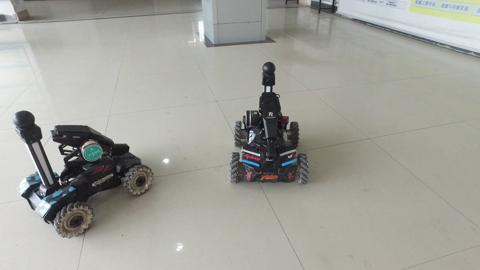chariot: (11, 107, 156, 240), (223, 59, 312, 190)
